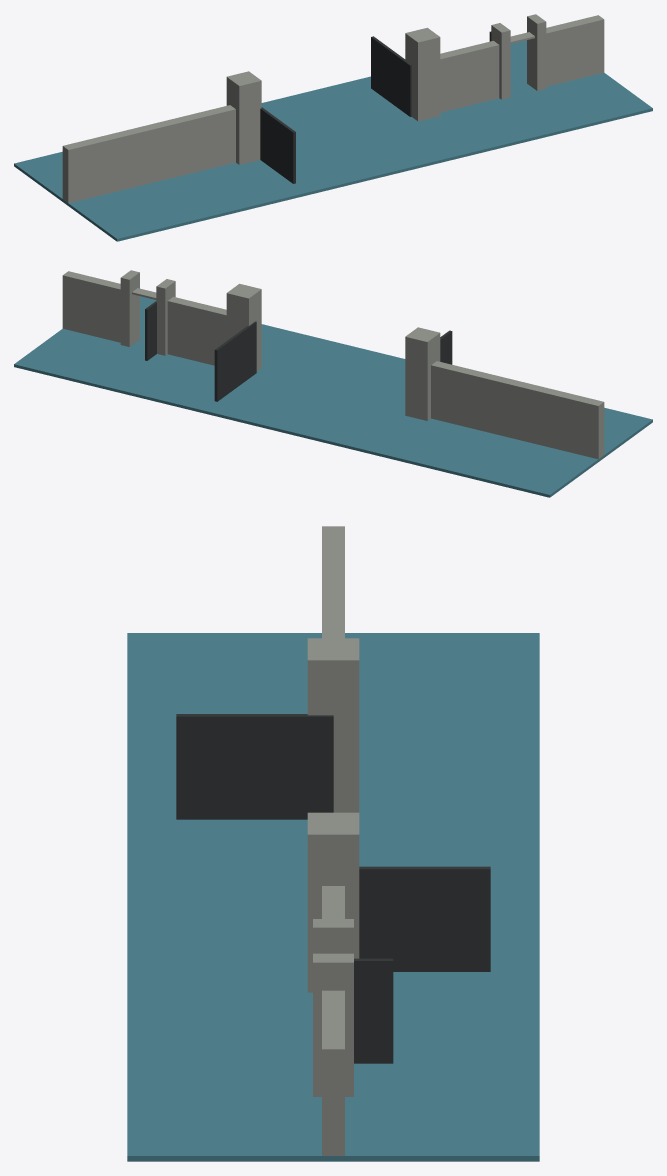
Rendered from HAR-003_ESTATE_GATE_PLAYABLE_BLOCKOUT.fbx.
The picture shows the model from 3 angles, top to bottom: view 1: azimuth 30°, elevation 25°; view 2: azimuth 150°, elevation 25°; view 3: azimuth 270°, elevation 25°; orthographic projection. The views are drawn at different scales.
Visible parts, largest first — view 1: HAR003_WalkableRoad, HAR003_GateWallsAndPiers, EG_VEHICLE_LEAF_RIGHT_OPEN, EG_VEHICLE_LEAF_LEFT_OPEN; view 2: HAR003_WalkableRoad, HAR003_GateWallsAndPiers, EG_VEHICLE_LEAF_RIGHT_OPEN, EG_PED_GATE_PLAYABLE_OPEN, EG_VEHICLE_LEAF_LEFT_OPEN; view 3: HAR003_WalkableRoad, HAR003_GateWallsAndPiers, EG_VEHICLE_LEAF_LEFT_OPEN, EG_VEHICLE_LEAF_RIGHT_OPEN, EG_PED_GATE_PLAYABLE_OPEN.
Boxes of the visible parts, left/top/right/bottom form: HAR003_WalkableRoad: left=14, top=40, right=652, bottom=241; HAR003_GateWallsAndPiers: left=62, top=14, right=604, bottom=203; EG_VEHICLE_LEAF_RIGHT_OPEN: left=371, top=36, right=411, bottom=116; EG_VEHICLE_LEAF_LEFT_OPEN: left=260, top=107, right=295, bottom=183; HAR003_WalkableRoad: left=14, top=296, right=652, bottom=497; HAR003_GateWallsAndPiers: left=62, top=270, right=604, bottom=459; EG_VEHICLE_LEAF_RIGHT_OPEN: left=214, top=321, right=256, bottom=401; EG_PED_GATE_PLAYABLE_OPEN: left=145, top=301, right=156, bottom=360; EG_VEHICLE_LEAF_LEFT_OPEN: left=440, top=330, right=452, bottom=364; HAR003_WalkableRoad: left=127, top=633, right=539, bottom=1161; HAR003_GateWallsAndPiers: left=307, top=526, right=359, bottom=1155; EG_VEHICLE_LEAF_LEFT_OPEN: left=176, top=714, right=333, bottom=819; EG_VEHICLE_LEAF_RIGHT_OPEN: left=359, top=866, right=490, bottom=971; EG_PED_GATE_PLAYABLE_OPEN: left=354, top=958, right=393, bottom=1063.
Size of the model in its own units: 24 by 3.5 by 8.
